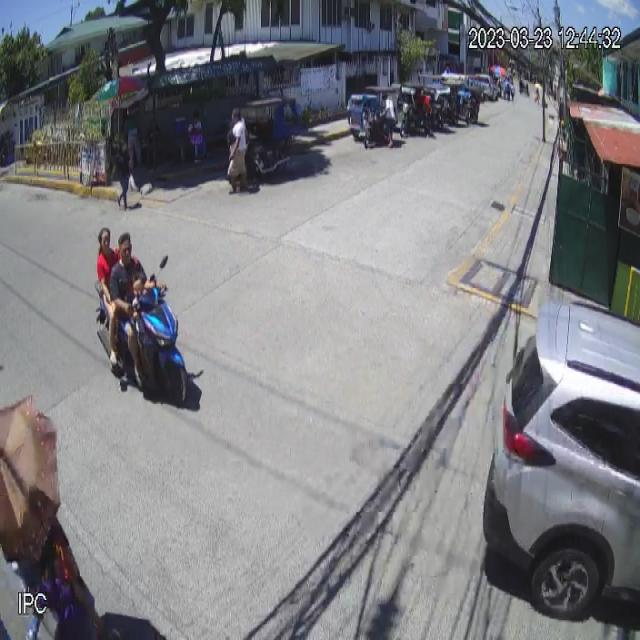Motorcycle: (88, 248, 192, 412)
